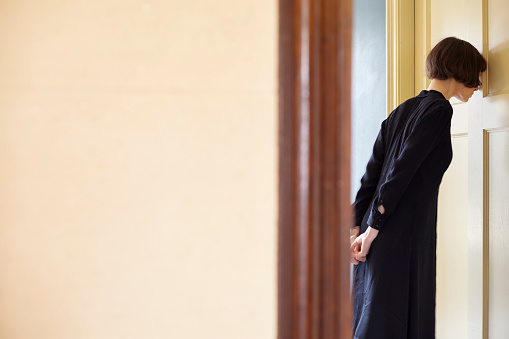em pe: (337, 23, 477, 339)
